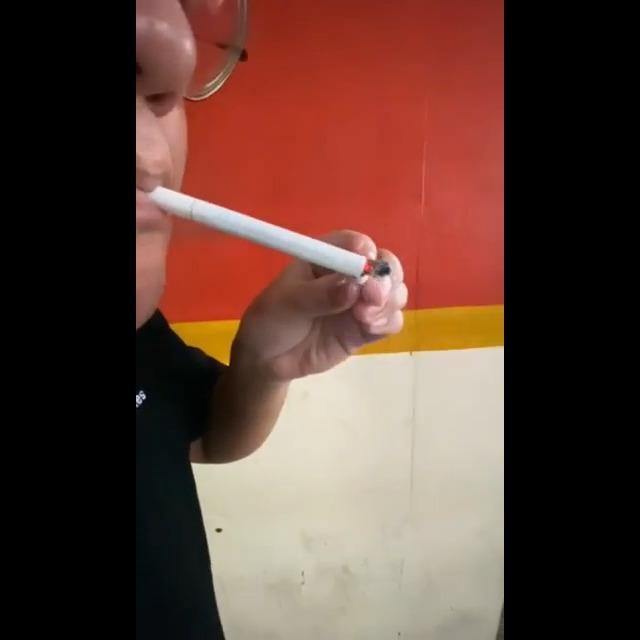rokok: (140, 174, 396, 292)
